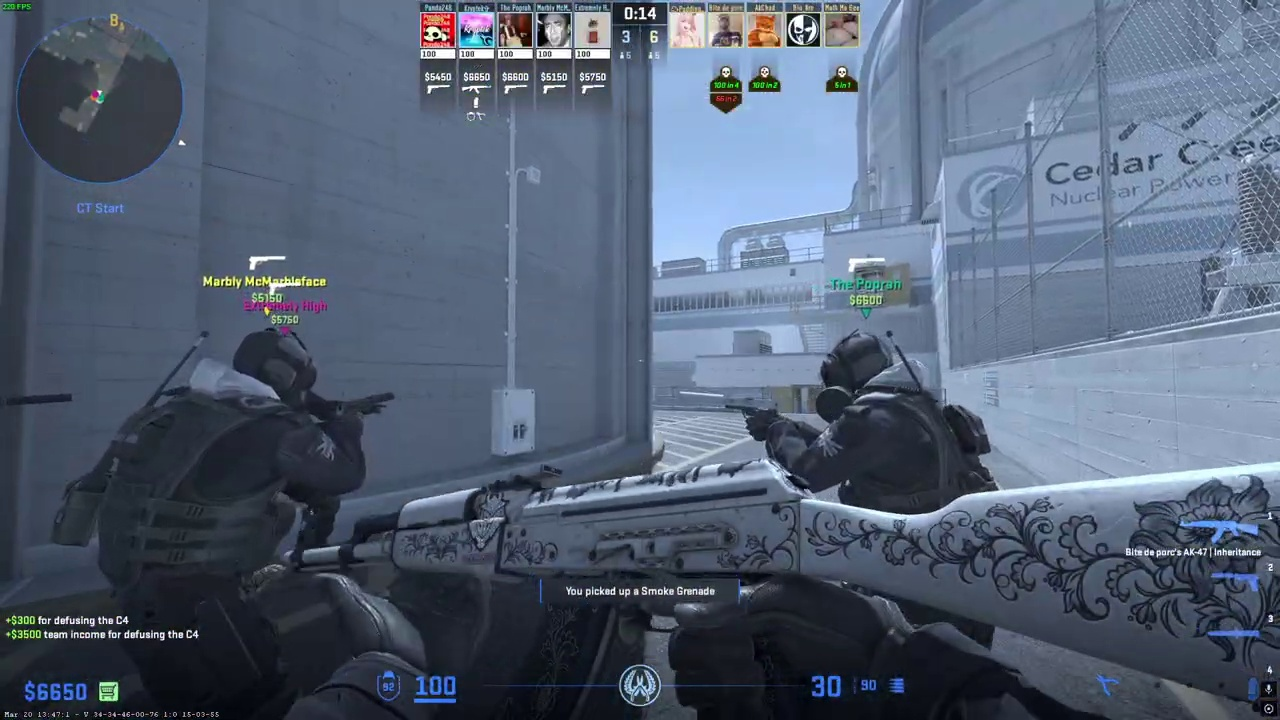CT: (97, 327, 350, 719), (764, 329, 983, 513)
